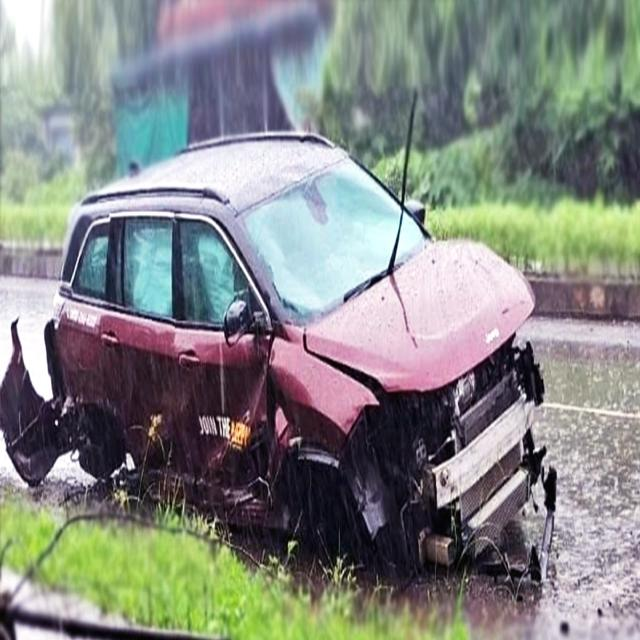accident: (0, 131, 545, 577)
